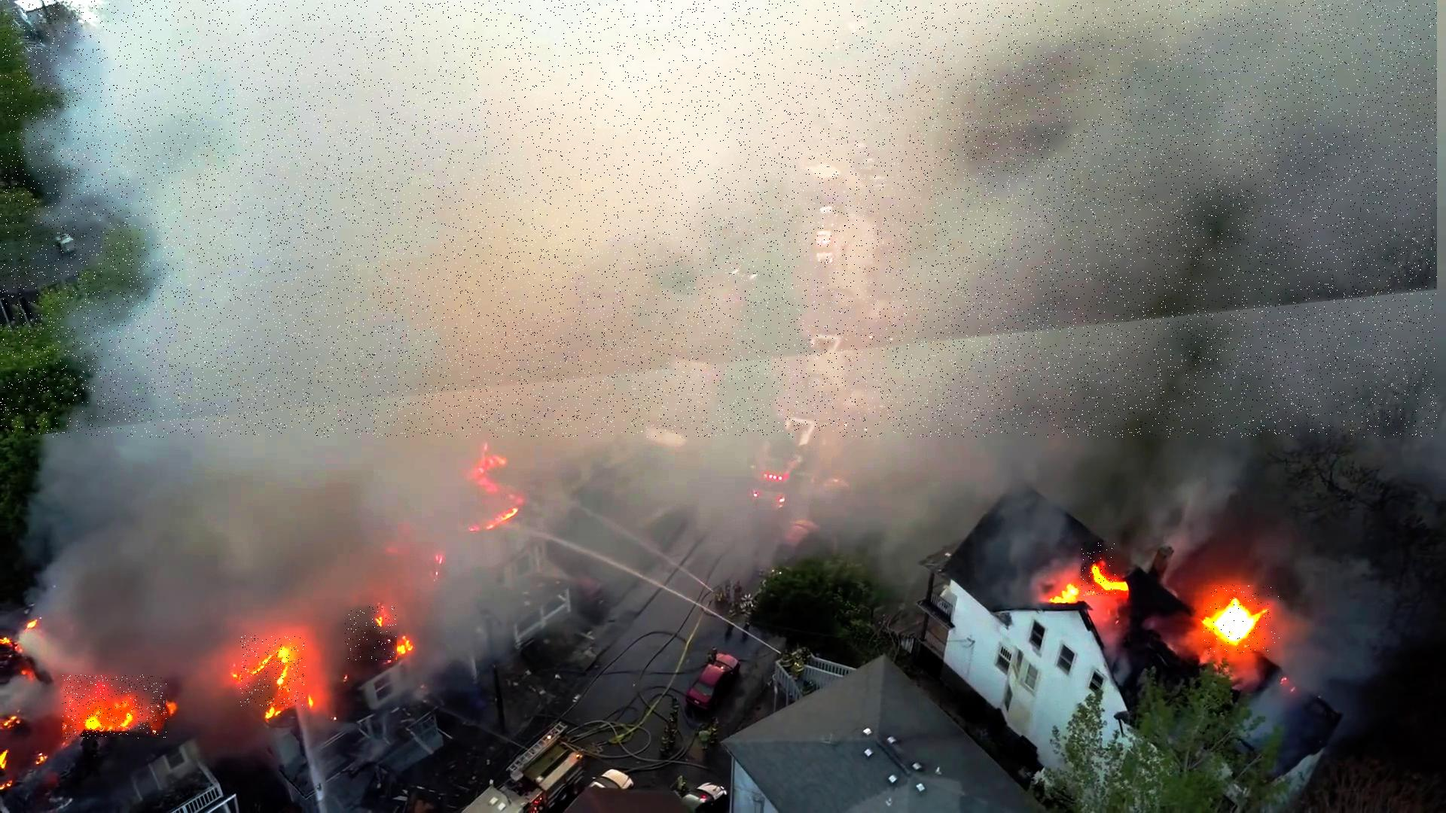fire: (63, 675, 167, 739), (1204, 586, 1280, 656), (240, 635, 306, 706), (345, 607, 397, 662), (1081, 542, 1117, 597)
smoke: (0, 1, 1437, 438)
